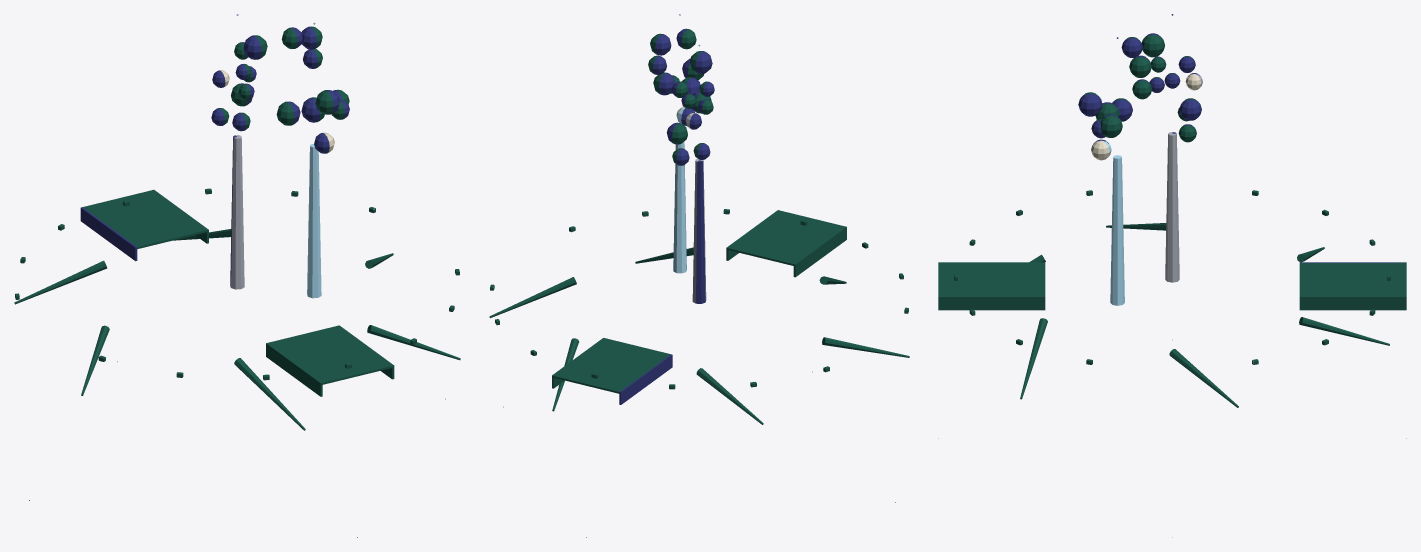
Rendered from chunk_es_sky_orchard.fbx.
The picture shows the model from 3 angles, left to right: view 1: azimuth 30°, elevation 25°; view 2: azimuth 150°, elevation 25°; view 3: azimuth 270°, elevation 25°; orthographic projection. The views are drawn at different scales.
Parts seen in each view (by area): view 1: ES_SKY_ORCHARD; view 2: ES_SKY_ORCHARD; view 3: ES_SKY_ORCHARD.
Boxes of the visible parts, <box> form: ES_SKY_ORCHARD: <box>14,14,460,537</box>; ES_SKY_ORCHARD: <box>489,14,909,537</box>; ES_SKY_ORCHARD: <box>938,14,1406,537</box>.
Size of the model in its own units: 256 by 256 by 256.
